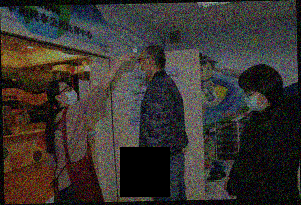with_mask: (243, 91, 265, 114), (61, 85, 80, 108), (136, 54, 149, 79)
